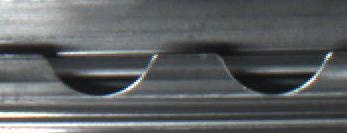twou: (56, 43, 316, 104)
